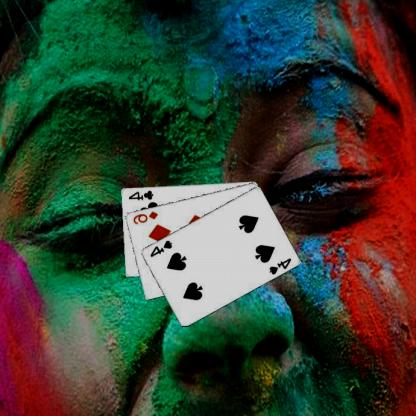4C: (127, 188, 156, 201)
4S: (149, 238, 175, 258), (268, 256, 294, 276)
6D: (132, 209, 160, 226)
